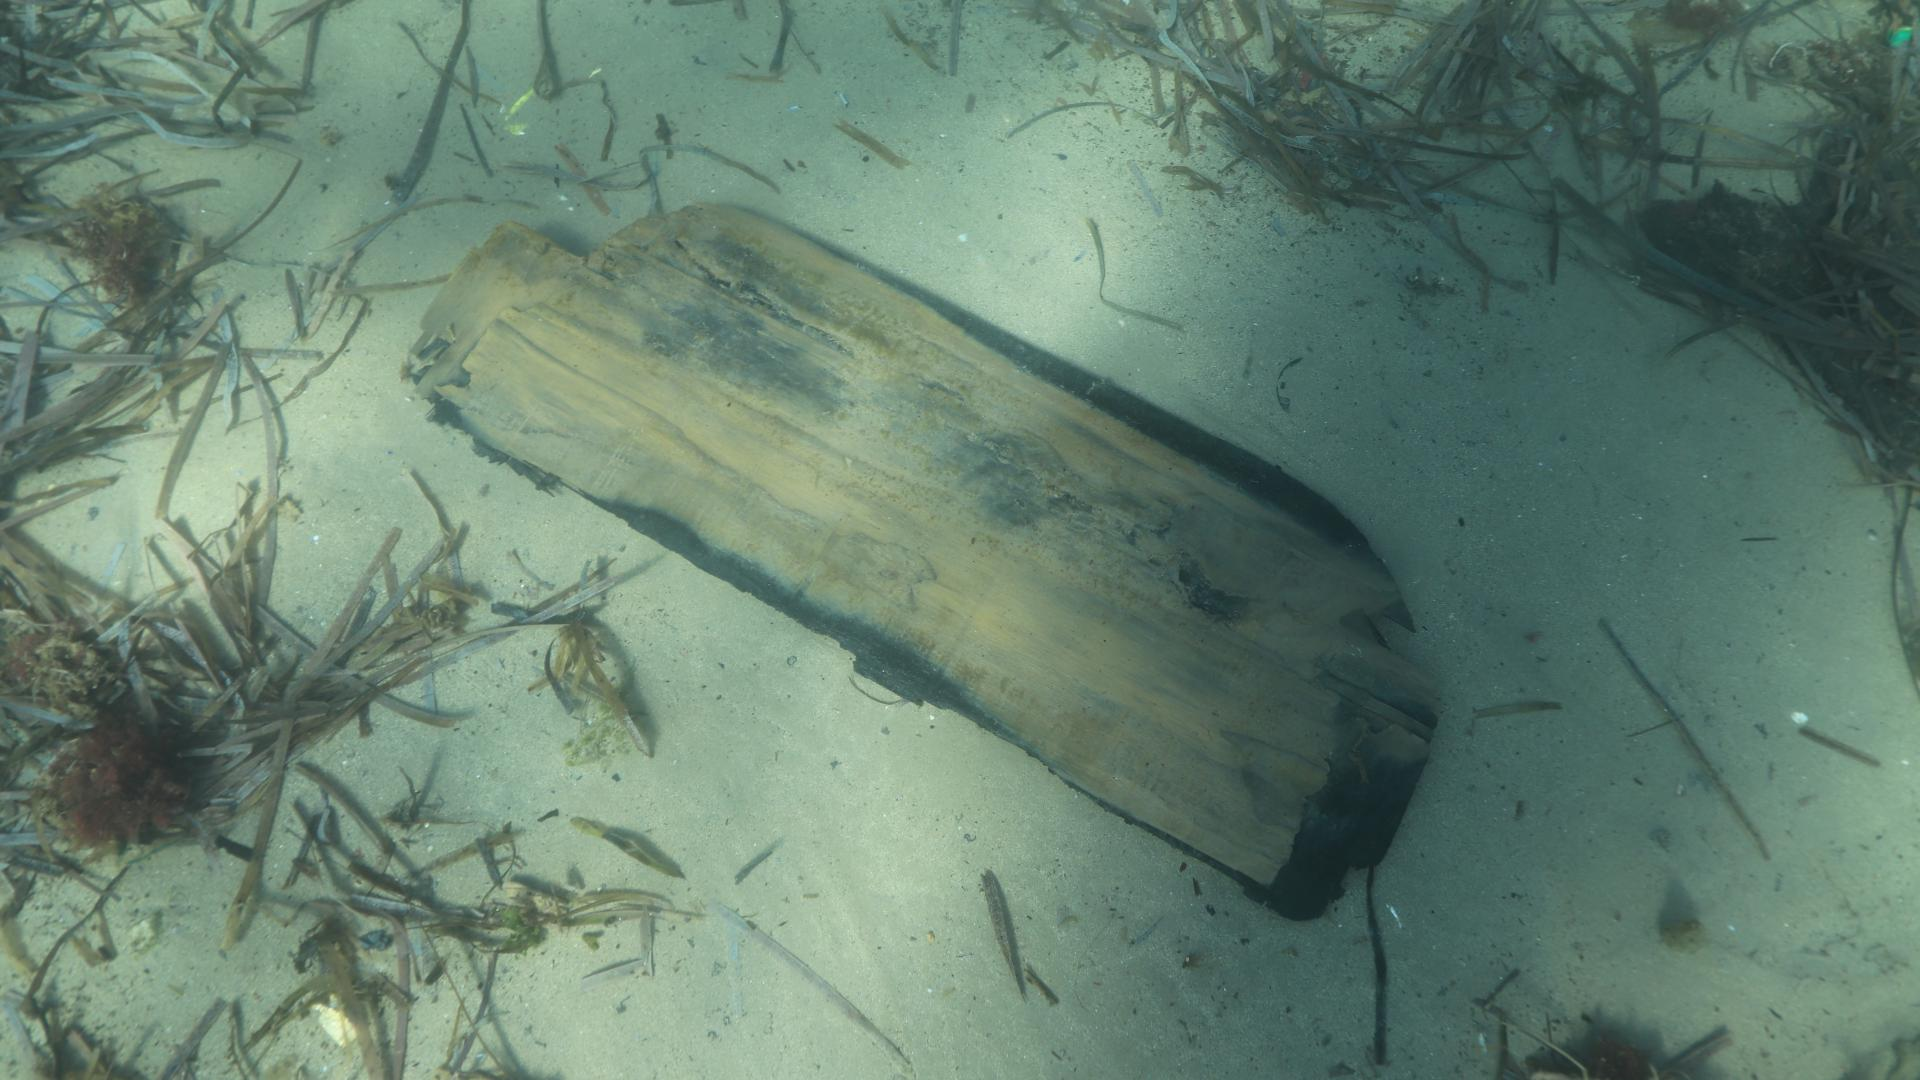wood: (407, 200, 1437, 920)
